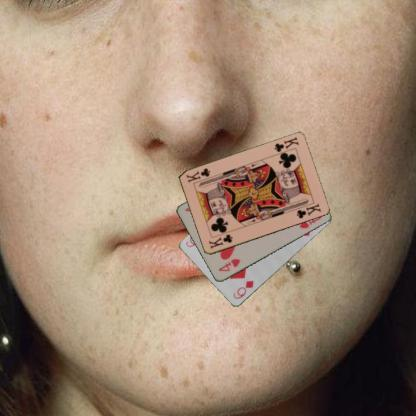4h: (216, 256, 242, 274)
6d: (230, 278, 255, 300)
Kc: (271, 135, 300, 157), (206, 232, 235, 250)
